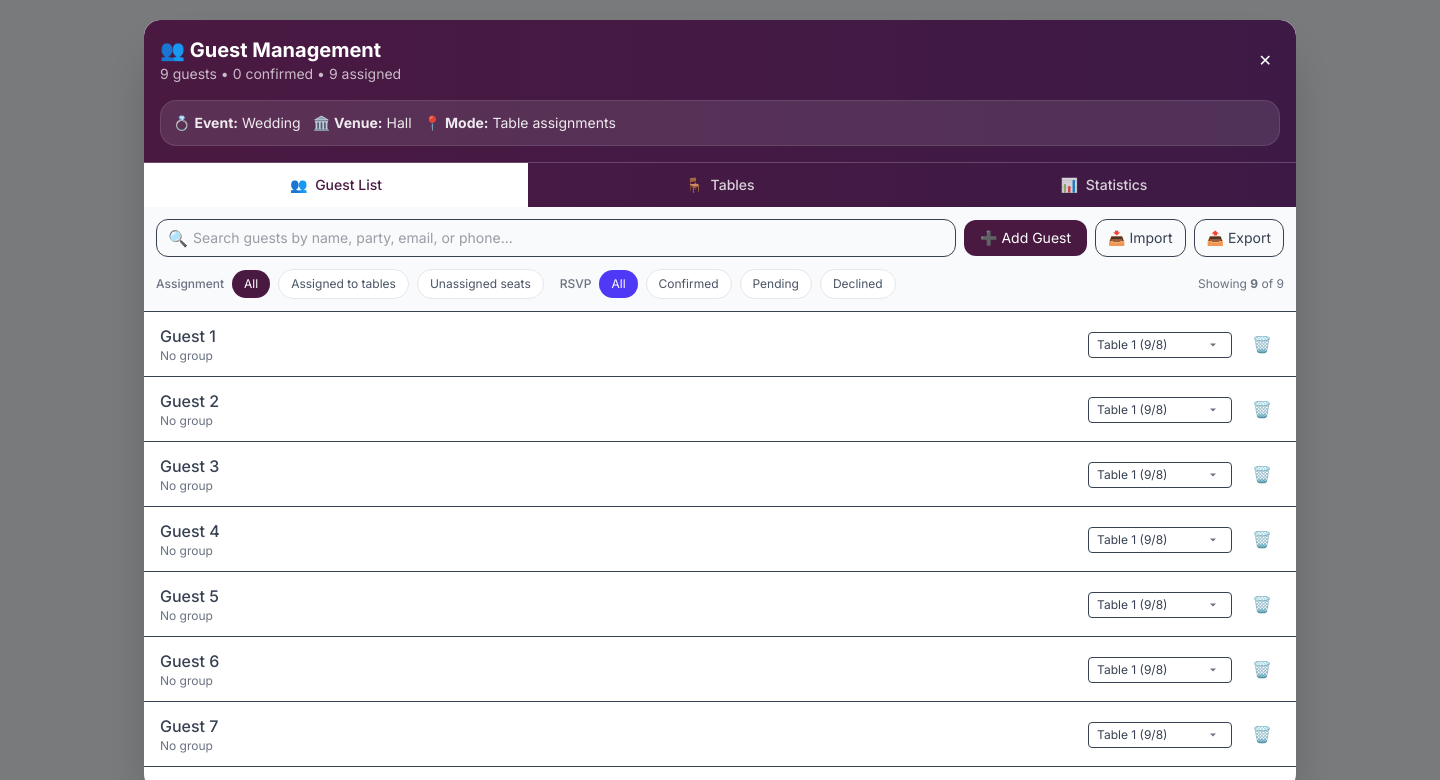
Scenario: GuestPanel over-capacity detection › flags a table as over capacity
// Switch to the assignments tab.
Click the button "🪑 Tables". click: (720, 185)
box: [528, 163, 912, 207]
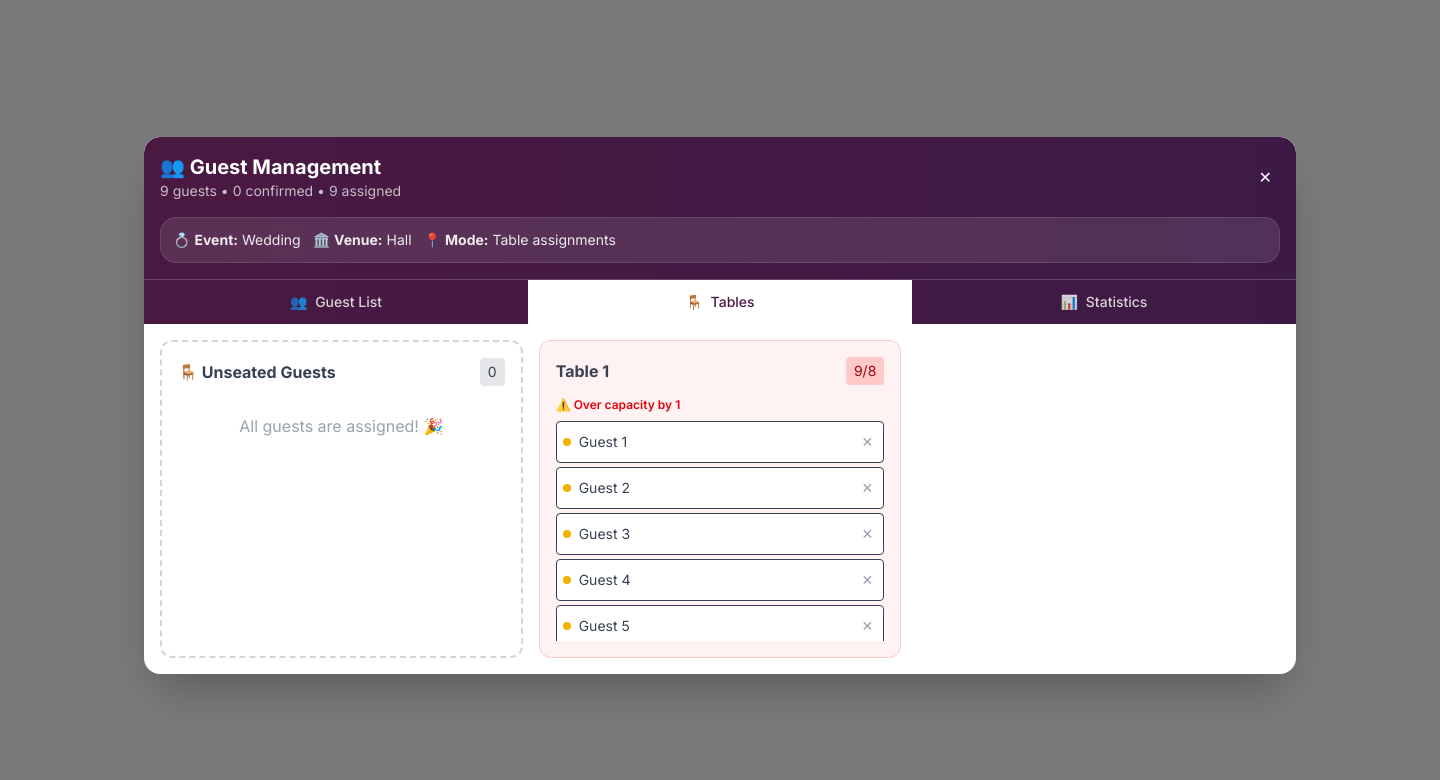
Expected: the text "⚠️ Over capacity by 1" is shown, [556, 396, 680, 412]
Expected: the text "9/8" is shown, [846, 356, 884, 384]
